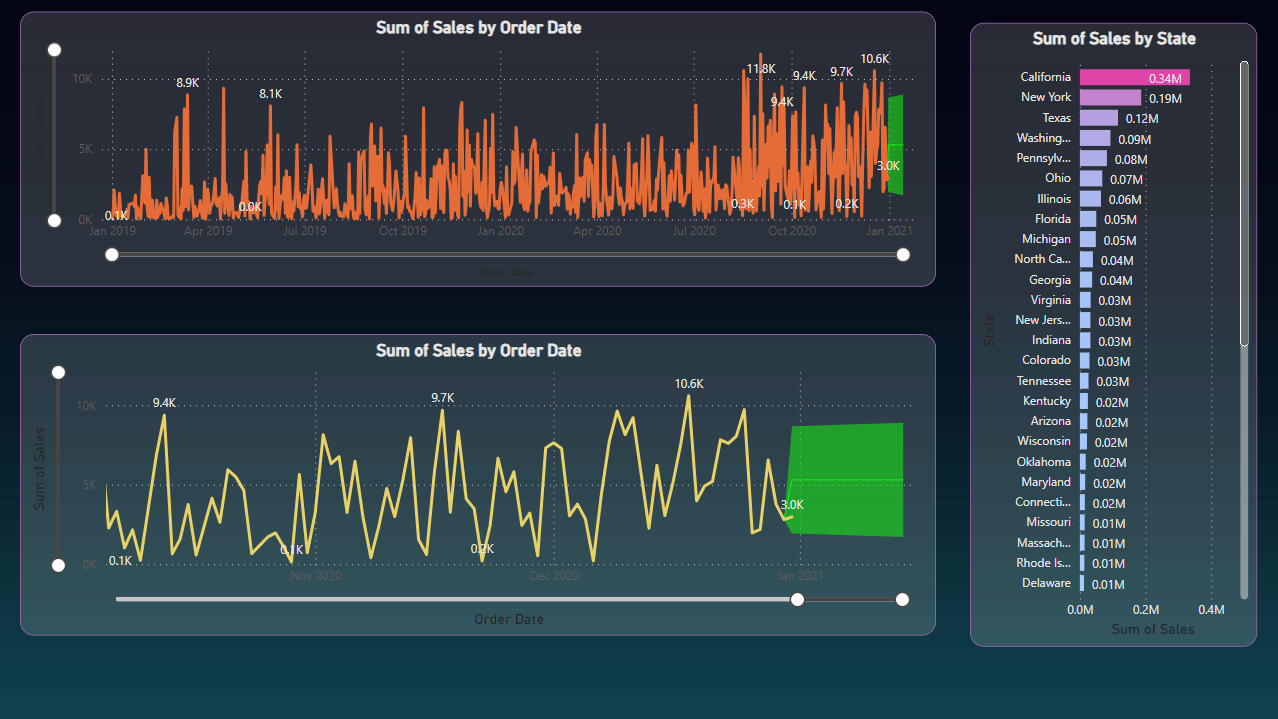

The page's visual inventory and layout, read from the dashboard file:
{"tool":"powerbi","page":{"name":"Page 2","canvas":[1280,720],"ordinal":1},"visuals":[{"type":"lineChart","fields":{"Y":["Sum(SuperStore_Sales_Dataset.Sales)"],"Category":["SuperStore_Sales_Dataset.Order Date"]},"box":[20,12.5,916.2,275],"z":0},{"type":"lineChart","fields":{"Y":["Sum(SuperStore_Sales_Dataset.Sales)"],"Category":["SuperStore_Sales_Dataset.Order Date"]},"box":[20,335,916.2,301.2],"z":1000},{"type":"clusteredBarChart","fields":{"Y":["Sum(SuperStore_Sales_Dataset.Sales)"],"Category":["SuperStore_Sales_Dataset.State"]},"box":[970,23.8,287.5,623.8],"z":2000}]}

Visuals, with their boxes in screenshot pixels (x1, y1, x2, y2), scaled from the page's 1280x720 canvas onto the 1278x719 screenshot:
lineChart - Sum(SuperStore_Sales_Dataset.Sales) x SuperStore_Sales_Dataset.Order Date: bbox(20, 12, 935, 287)
lineChart - Sum(SuperStore_Sales_Dataset.Sales) x SuperStore_Sales_Dataset.Order Date: bbox(20, 335, 935, 635)
clusteredBarChart - Sum(SuperStore_Sales_Dataset.Sales) x SuperStore_Sales_Dataset.State: bbox(968, 24, 1256, 647)
